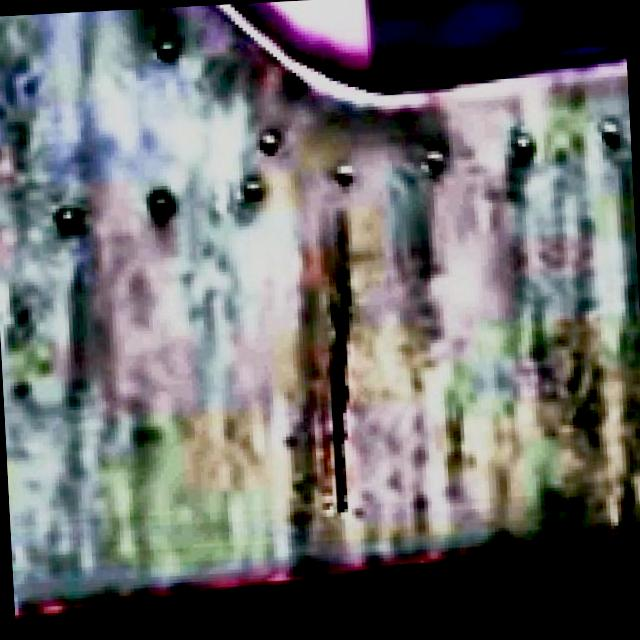crack: (278, 207, 374, 543)
